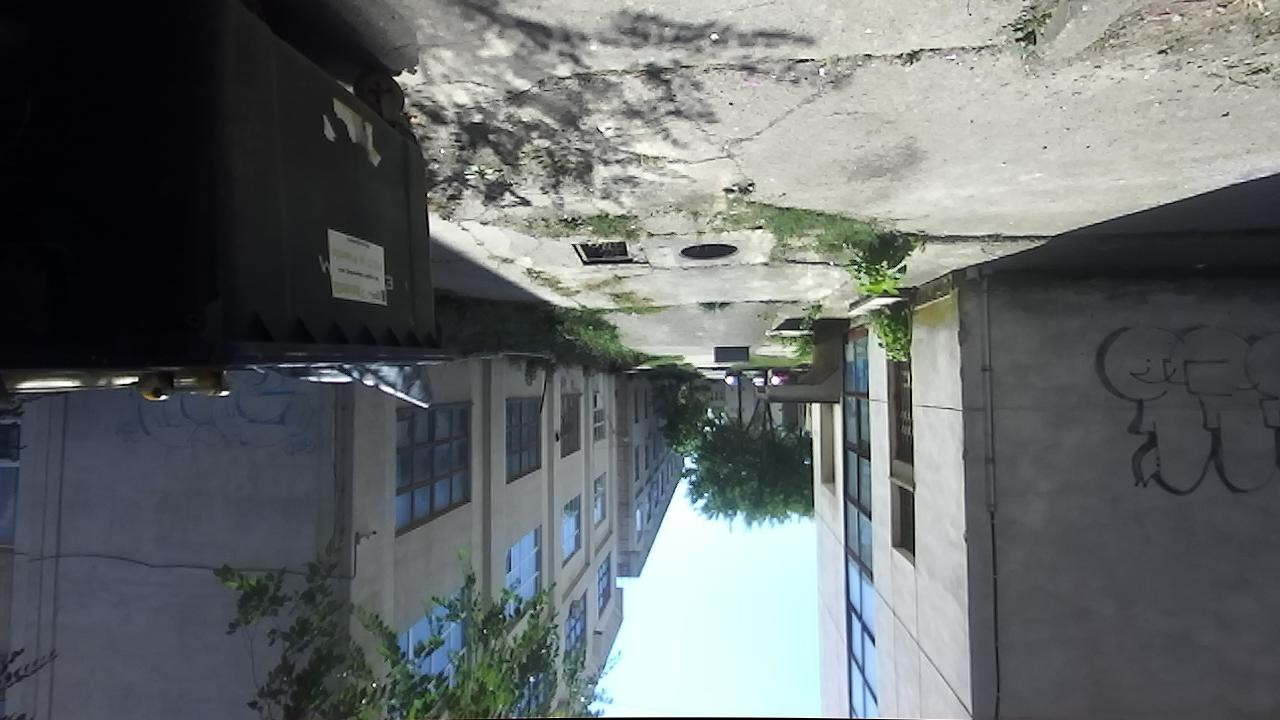drain: (564, 235, 633, 268), (671, 239, 740, 264)
